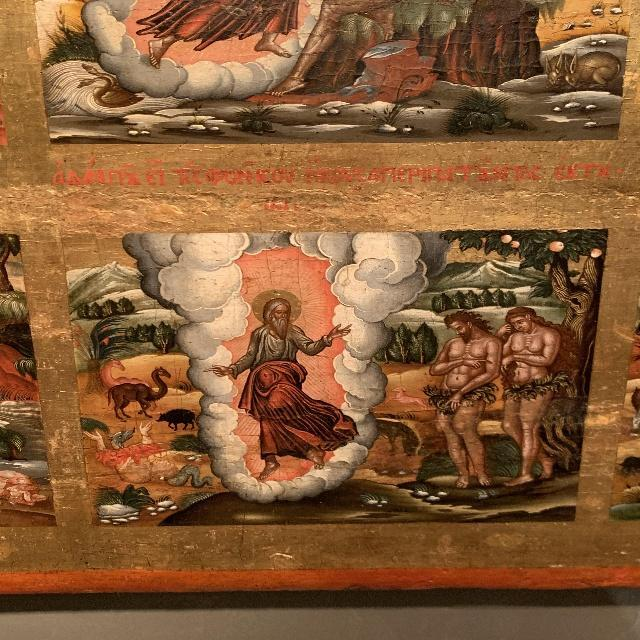adam: (427, 313, 500, 493)
eve: (504, 307, 577, 479)
father: (227, 274, 354, 478)
